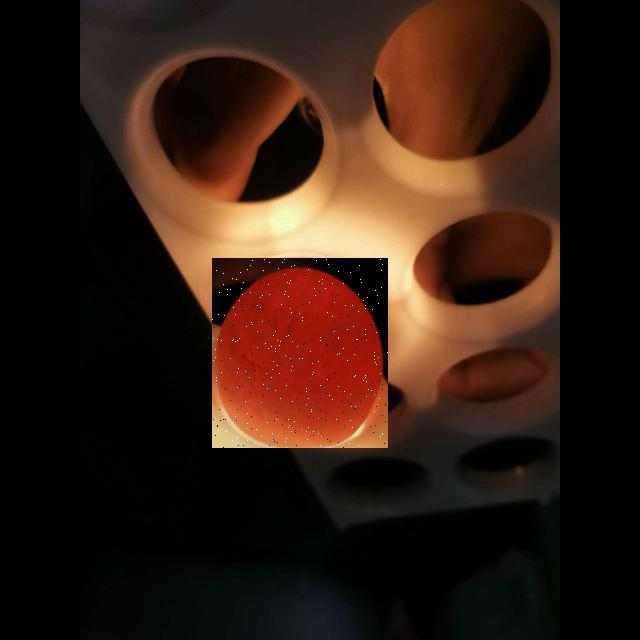Infertile: (212, 258, 388, 448)
